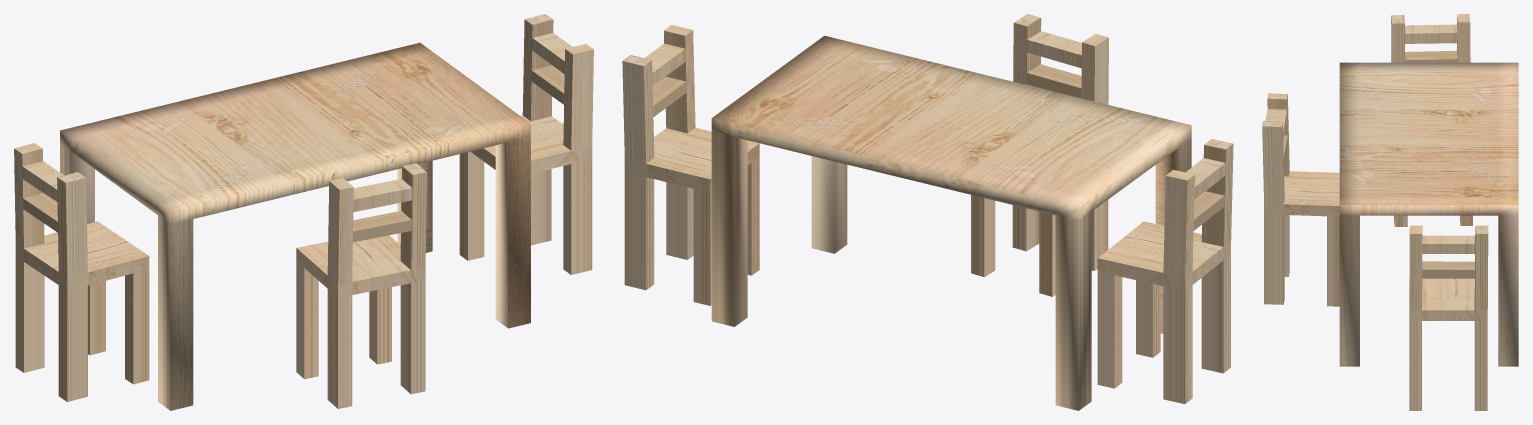
The model's file is table.glb.
The picture shows the model from 3 angles, left to right: view 1: azimuth 30°, elevation 25°; view 2: azimuth 150°, elevation 25°; view 3: azimuth 270°, elevation 25°; orthographic projection. The views are drawn at different scales.
Visible parts, largest first — view 1: Cube, Cube.001, Cube.002, Cube.003; view 2: Cube, Cube.001, Cube.003, Cube.002; view 3: Cube, Cube.003, Cube.002, Cube.001.
Part boxes in pixels (x1,y1,x2,y2): Cube: [60, 42, 530, 410]; Cube.001: [14, 143, 149, 401]; Cube.002: [296, 163, 426, 408]; Cube.003: [459, 14, 593, 274]; Cube: [711, 35, 1191, 410]; Cube.001: [1097, 139, 1233, 403]; Cube.003: [622, 25, 759, 305]; Cube.002: [971, 14, 1108, 296]; Cube: [1339, 62, 1518, 366]; Cube.003: [1409, 225, 1488, 410]; Cube.002: [1262, 93, 1339, 306]; Cube.001: [1391, 14, 1472, 226].
Size of the model in its own units: 12.94 by 5.16 by 6.54.
2 materials, 2 textured.
